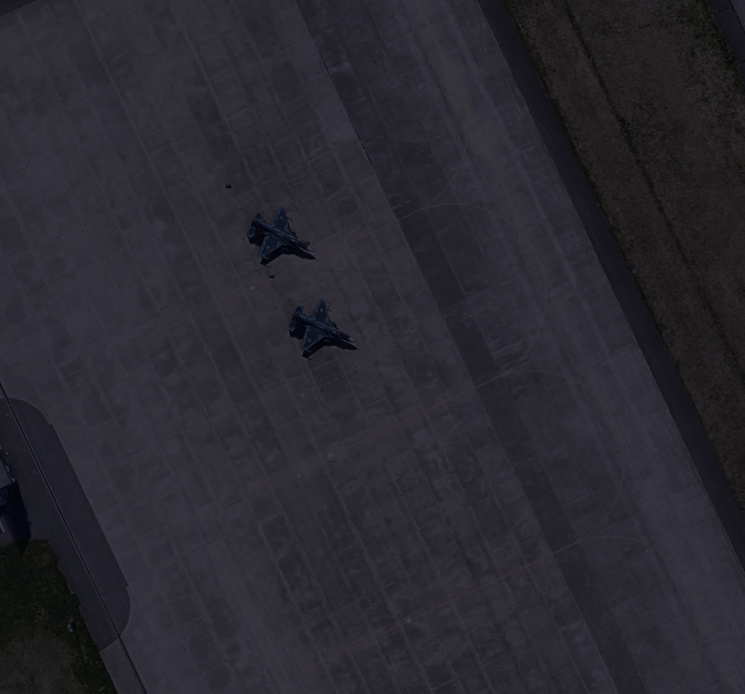A5: (288, 297, 360, 359), (248, 205, 313, 265)
